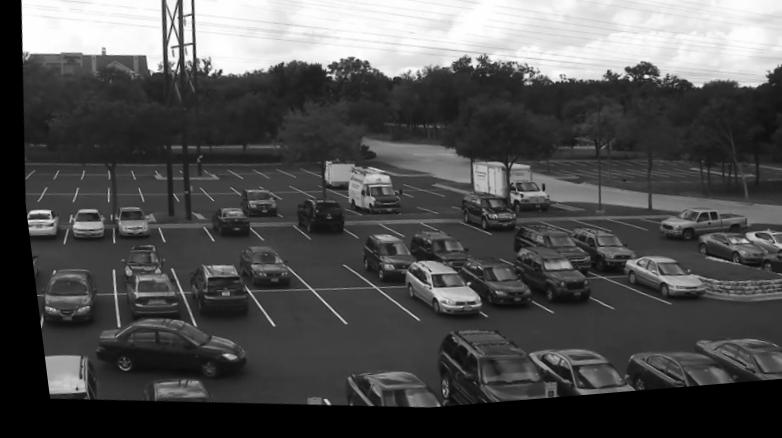empty: (319, 289, 411, 329), (211, 381, 318, 409), (578, 284, 657, 319), (243, 294, 323, 328), (283, 260, 348, 289), (152, 225, 210, 248), (375, 224, 430, 243), (52, 252, 101, 272), (248, 227, 299, 246), (169, 253, 212, 275), (422, 225, 479, 241), (467, 248, 510, 268), (341, 223, 386, 239), (387, 190, 433, 204), (67, 194, 104, 208), (537, 227, 584, 238), (603, 228, 659, 237), (34, 192, 71, 205), (161, 184, 197, 196), (169, 196, 211, 206), (199, 169, 233, 181), (104, 194, 137, 206), (40, 182, 73, 194), (271, 205, 299, 219), (269, 196, 308, 206), (193, 183, 228, 194), (132, 196, 174, 205), (102, 170, 132, 182), (125, 170, 155, 182), (575, 231, 624, 238), (134, 184, 166, 194), (300, 194, 339, 202), (78, 168, 104, 180), (230, 172, 261, 182), (222, 184, 256, 193), (255, 183, 289, 192), (193, 207, 216, 220), (32, 201, 61, 211), (72, 184, 104, 193), (284, 184, 319, 192), (201, 195, 235, 203), (103, 186, 137, 194), (280, 173, 311, 181), (54, 169, 76, 180), (256, 173, 285, 181), (26, 170, 51, 179), (20, 182, 42, 191), (20, 192, 37, 202)
occupied: (418, 336, 550, 412), (387, 264, 474, 325), (516, 359, 624, 405), (320, 372, 433, 414), (685, 346, 782, 394), (615, 359, 727, 400), (505, 254, 581, 311), (449, 263, 528, 317), (177, 265, 246, 319), (615, 265, 697, 308), (34, 267, 86, 323), (117, 271, 174, 320), (35, 354, 93, 400), (341, 172, 395, 219), (566, 237, 624, 280), (457, 199, 513, 243), (355, 240, 407, 287), (691, 244, 758, 280), (401, 238, 462, 277), (233, 249, 288, 291), (508, 233, 577, 263), (131, 378, 200, 405), (290, 204, 339, 240), (112, 247, 152, 277), (205, 210, 243, 241), (237, 191, 273, 221), (21, 208, 53, 240), (110, 208, 143, 237), (67, 209, 98, 238), (752, 262, 782, 290), (25, 252, 31, 273)
